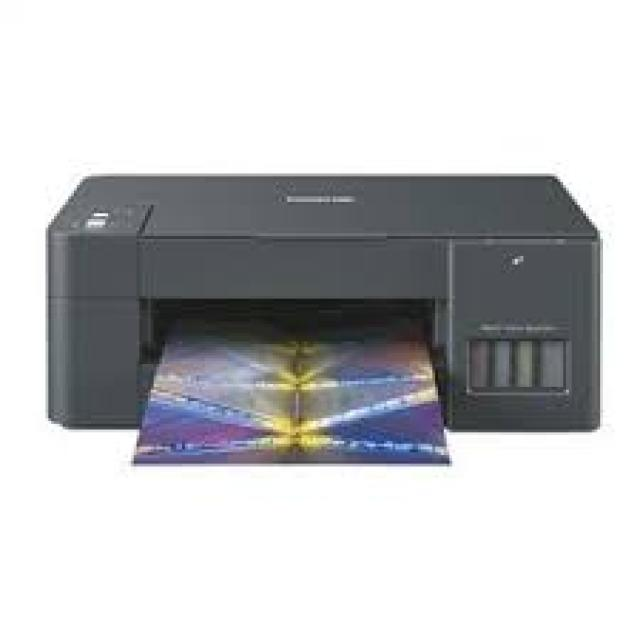printer: (43, 171, 603, 435)
